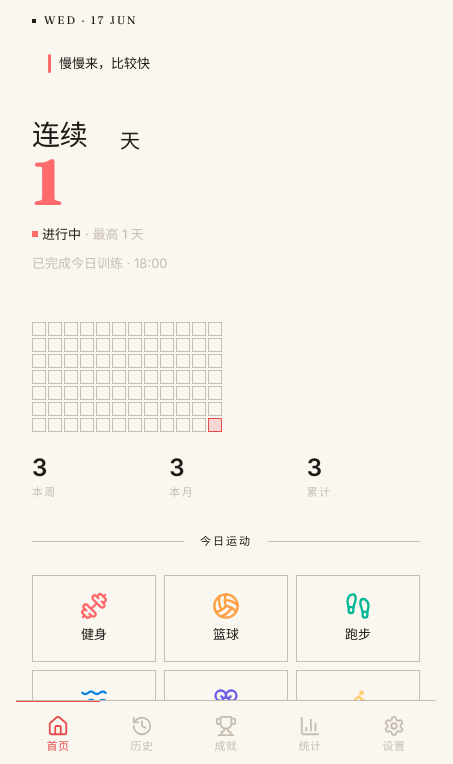
Test: 完整打卡流程集成测试 › 同一天多次打卡→Streak只算1天→三日燃未解锁
The image size is (453, 764).
Check: the text "连续" is shown, box left=32, top=121, right=88, bottom=149
Check: the text "1" is shown, box left=32, top=153, right=62, bottom=212
Click the link "成就" at coordinates (226, 734), box left=214, top=714, right=238, bottom=752
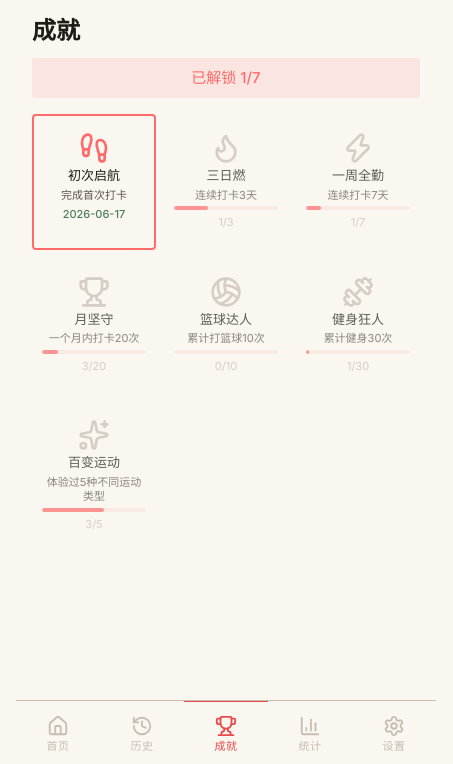
Check: the text "已解锁 1/7" is shown, box left=32, top=58, right=420, bottom=98
